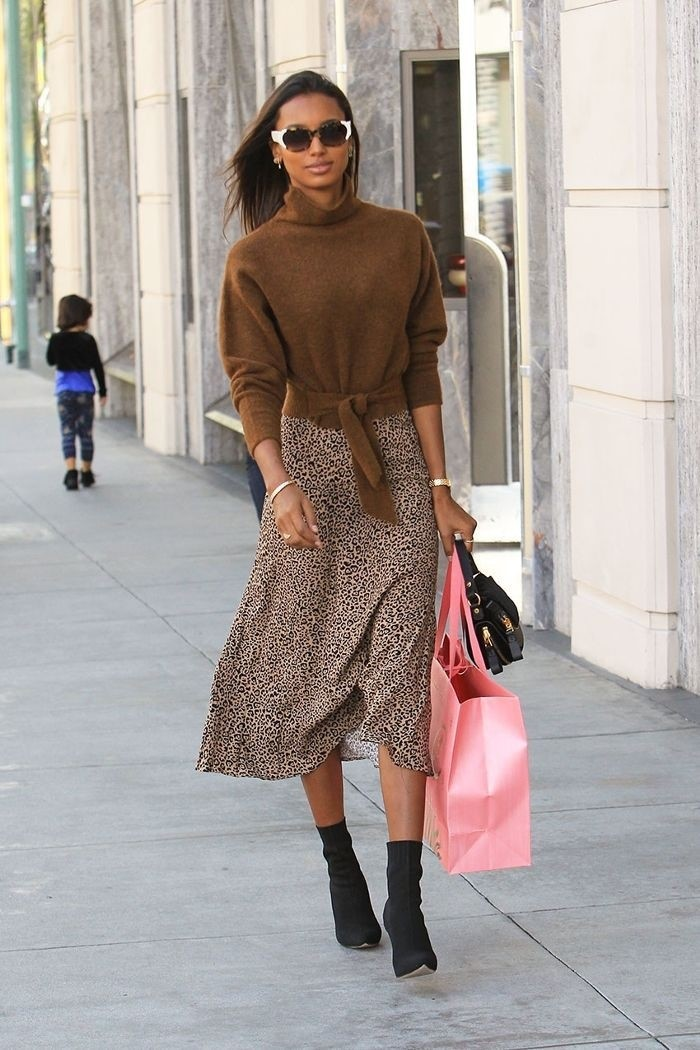face_no_mask: (264, 77, 360, 206)
